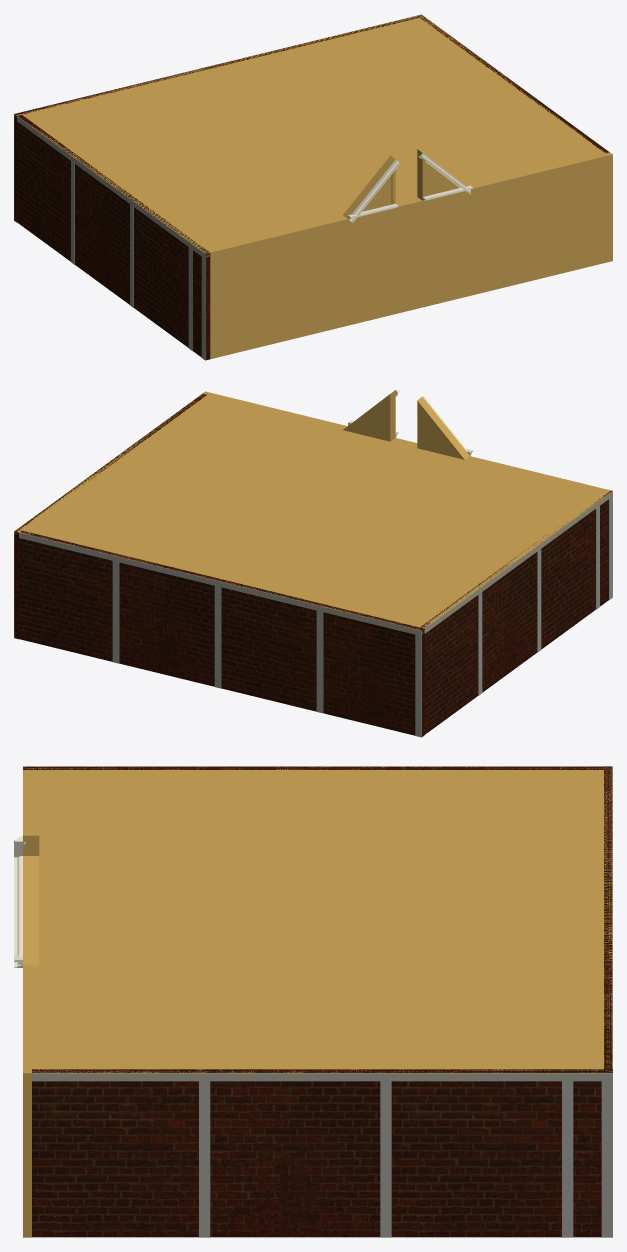
The model's file is building.glb.
The picture shows the model from 3 angles, top to bottom: view 1: azimuth 30°, elevation 25°; view 2: azimuth 150°, elevation 25°; view 3: azimuth 270°, elevation 25°; orthographic projection. The views are drawn at different scales.
Visible parts, largest first — view 1: roof/house:0/roof_slab#0001, house:0/edge0/z0/house:0/edge0/z0/wall_0_0, house:0/edge3/z0/house:0/edge3/z0/wall_0_0, house:0/edge2/z0/house:0/edge2/z0/wall_0_0, house:0/edge3/z0/house:0/edge3/z0/beam_0_0, crown/coronamiento/crown_body#0001, house:0/edge1/z0/house:0/edge1/z0/wall_0_0, crown/coronamiento/crown_body#0002, house:0/edge3/z0/house:0/edge3/z0/column_1_0, house:0/edge3/z0/house:0/edge3/z0/column_4_0, crown/coronamiento/crown_moulding#0001; view 2: roof/house:0/roof_slab#0001, house:0/edge2/z0/house:0/edge2/z0/wall_0_0, house:0/edge3/z0/house:0/edge3/z0/wall_0_0, house:0/edge2/z0/house:0/edge2/z0/beam_0_0, crown/coronamiento/crown_body#0001, house:0/edge1/z0/house:0/edge1/z0/wall_0_0, crown/coronamiento/crown_body#0002, house:0/edge3/z0/house:0/edge3/z0/beam_0_0, house:0/edge0/z0/house:0/edge0/z0/wall_0_0, house:0/edge2/z0/house:0/edge2/z0/column_2_0, house:0/edge2/z0/house:0/edge2/z0/column_3_0, house:0/edge2/z0/house:0/edge2/z0/column_4_0 (+3 smaller); view 3: roof/house:0/roof_slab#0001, house:0/edge1/z0/house:0/edge1/z0/wall_0_0, house:0/edge1/z0/house:0/edge1/z0/beam_0_0, house:0/edge0/z0/house:0/edge0/z0/wall_0_0, house:0/edge2/z0/house:0/edge2/z0/wall_0_0, house:0/edge3/z0/house:0/edge3/z0/wall_0_0, house:0/edge1/z0/house:0/edge1/z0/column_1_0, house:0/edge1/z0/house:0/edge1/z0/column_2_0, house:0/edge1/z0/house:0/edge1/z0/column_3_0, house:0/edge1/z0/house:0/edge1/z0/column_4_0, crown/coronamiento/crown_body#0002, crown/coronamiento/crown_moulding#0002.
Boxes of the visible parts, x1,y1,x2,y2 form: roof/house:0/roof_slab#0001: (14,14,612,257); house:0/edge0/z0/house:0/edge0/z0/wall_0_0: (208,152,612,359); house:0/edge3/z0/house:0/edge3/z0/wall_0_0: (17,115,210,360); house:0/edge2/z0/house:0/edge2/z0/wall_0_0: (14,16,418,222); house:0/edge3/z0/house:0/edge3/z0/beam_0_0: (17,116,205,259); crown/coronamiento/crown_body#0001: (343,156,394,217); house:0/edge1/z0/house:0/edge1/z0/wall_0_0: (417,14,608,153); crown/coronamiento/crown_body#0002: (417,149,460,199); house:0/edge3/z0/house:0/edge3/z0/column_1_0: (201,257,205,360); house:0/edge3/z0/house:0/edge3/z0/column_4_0: (188,247,192,350); crown/coronamiento/crown_moulding#0001: (348,159,400,222); roof/house:0/roof_slab#0001: (14,392,612,633); house:0/edge2/z0/house:0/edge2/z0/wall_0_0: (19,530,424,736); house:0/edge3/z0/house:0/edge3/z0/wall_0_0: (420,490,612,734); house:0/edge2/z0/house:0/edge2/z0/beam_0_0: (19,532,421,636); crown/coronamiento/crown_body#0001: (417,397,469,459); house:0/edge1/z0/house:0/edge1/z0/wall_0_0: (14,393,206,639); crown/coronamiento/crown_body#0002: (343,390,394,441); house:0/edge3/z0/house:0/edge3/z0/beam_0_0: (424,491,612,633); house:0/edge0/z0/house:0/edge0/z0/wall_0_0: (202,391,605,491); house:0/edge2/z0/house:0/edge2/z0/column_2_0: (112,561,119,663); house:0/edge2/z0/house:0/edge2/z0/column_3_0: (214,586,221,688); house:0/edge2/z0/house:0/edge2/z0/column_4_0: (316,610,323,713); roof/house:0/roof_slab#0001: (23,766,612,1078); house:0/edge1/z0/house:0/edge1/z0/wall_0_0: (32,1069,612,1237); house:0/edge1/z0/house:0/edge1/z0/beam_0_0: (32,1073,612,1081); house:0/edge0/z0/house:0/edge0/z0/wall_0_0: (23,770,31,1237); house:0/edge2/z0/house:0/edge2/z0/wall_0_0: (604,766,612,1069); house:0/edge3/z0/house:0/edge3/z0/wall_0_0: (23,766,603,769); house:0/edge1/z0/house:0/edge1/z0/column_1_0: (601,1081,612,1237); house:0/edge1/z0/house:0/edge1/z0/column_2_0: (199,1081,210,1237); house:0/edge1/z0/house:0/edge1/z0/column_3_0: (380,1081,391,1237); house:0/edge1/z0/house:0/edge1/z0/column_4_0: (562,1081,573,1237); crown/coronamiento/crown_body#0002: (25,856,39,965); crown/coronamiento/crown_moulding#0002: (14,856,22,967).
Bounding box in the file's own units: 16 × 5.8 × 13.2.
4 materials, 1 textured.
